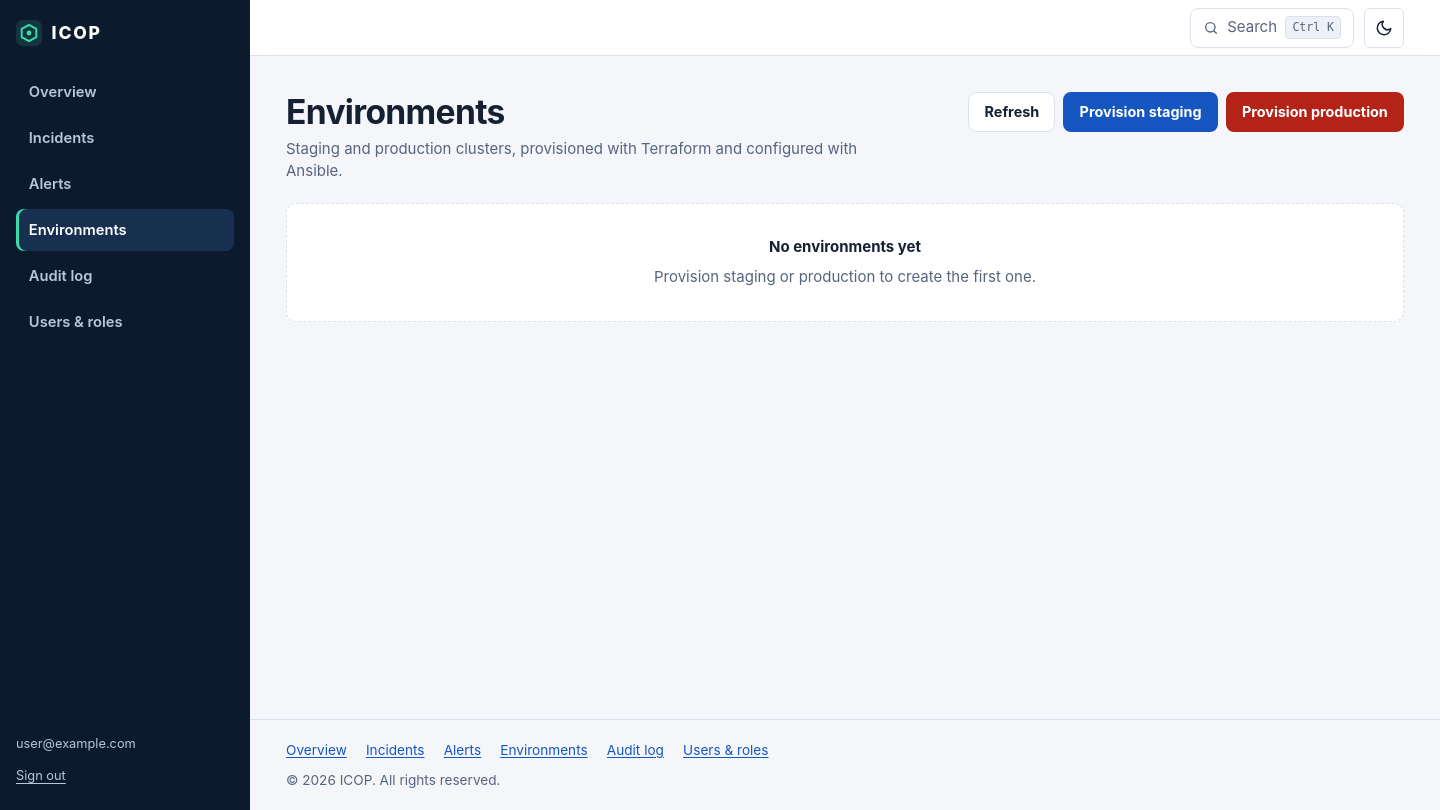
Test: environments: confirmation before anything irreversible › shows the API's refusal as an error toast with a copyable reference, and keeps the page usable
Step 1. Click the button "Provision staging" → (1141, 112), box [1063,92,1218,132]
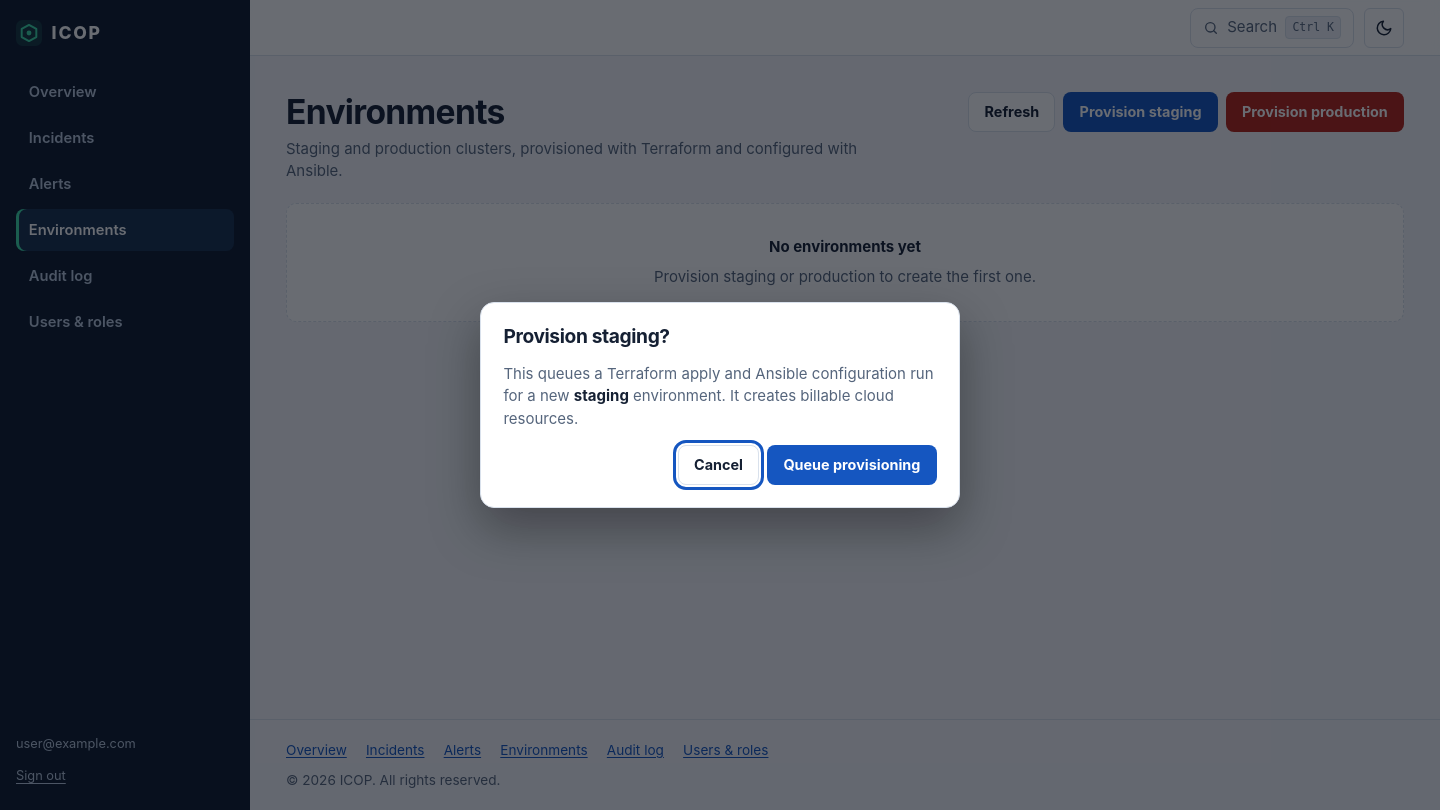
Step 2. Click the button "Queue provisioning" → (852, 465), box [767,445,937,485]
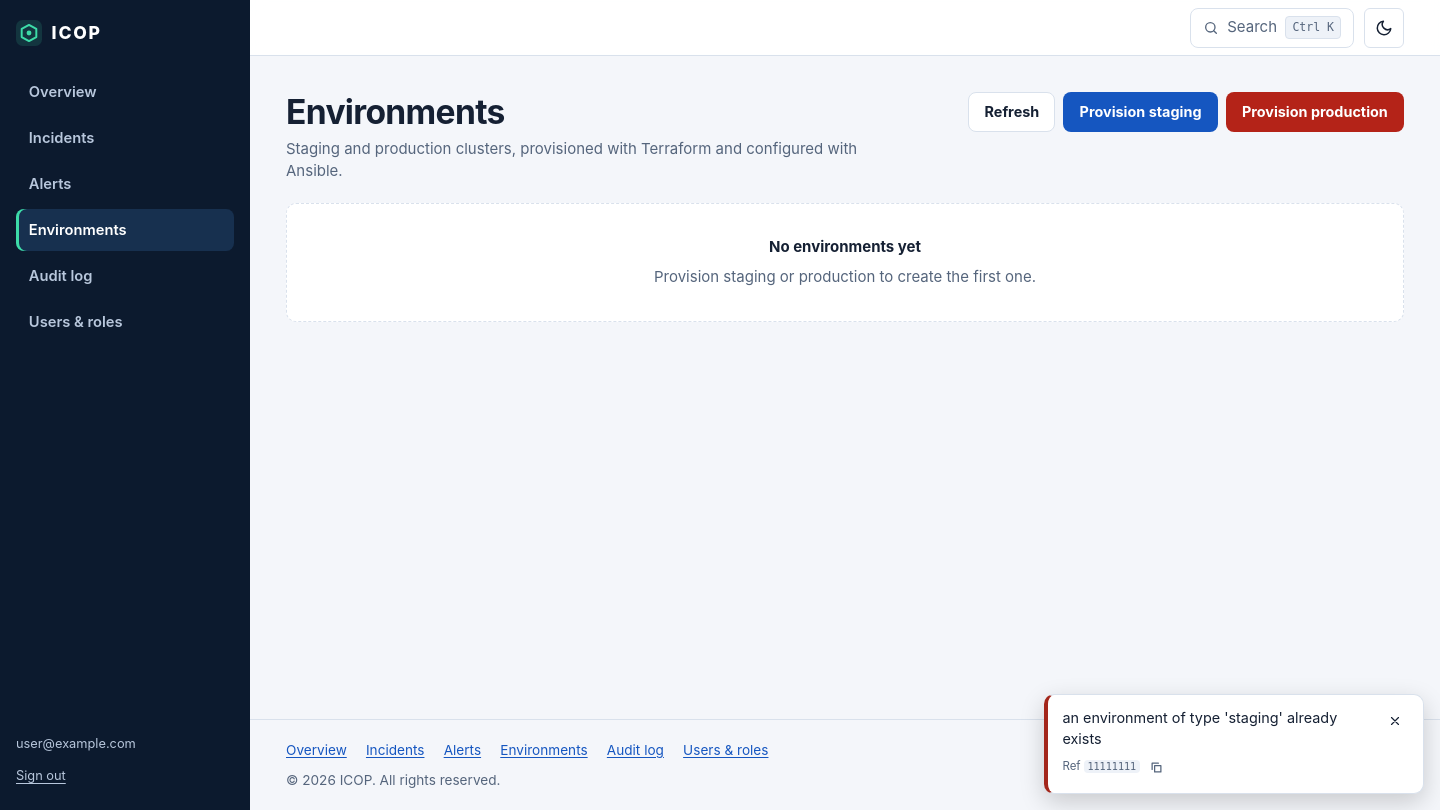
Result: the message shows "already exists" at [1062,709,1337,747]
Result: the message shows "11111111" at [1087,761,1136,772]
Result: the dialog is gone
